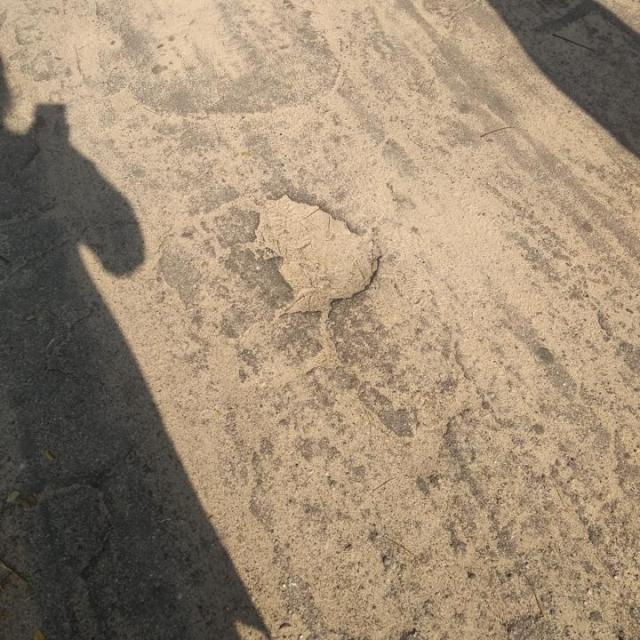pothole: (246, 189, 388, 315)
